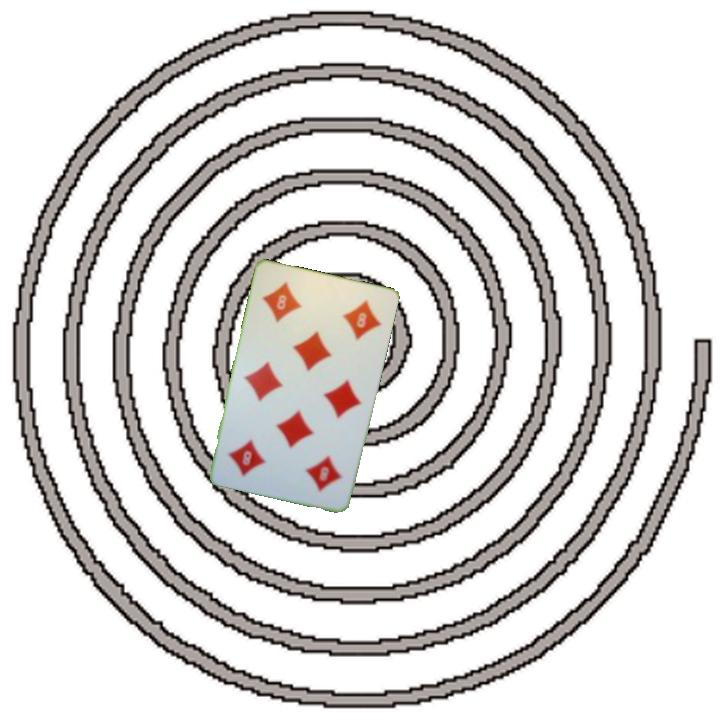d_8.png: (277, 433, 354, 503), (252, 270, 329, 340)
